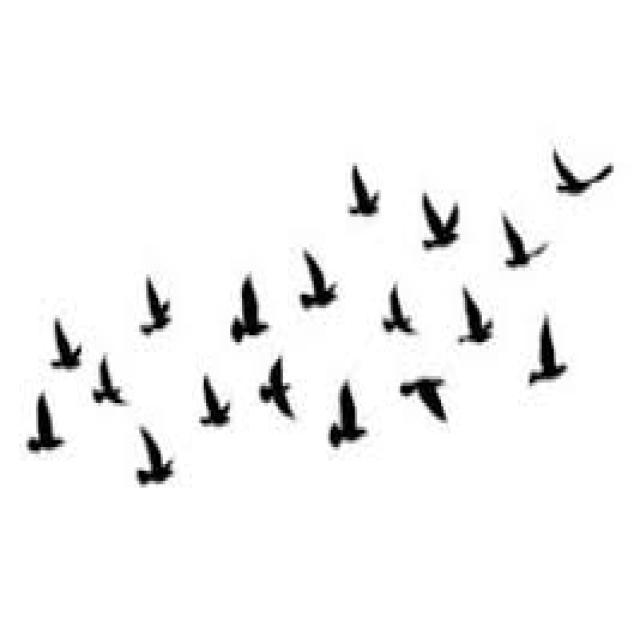bird: (526, 125, 629, 234), (7, 379, 91, 491), (280, 202, 350, 334), (318, 356, 388, 478), (332, 128, 399, 248), (27, 299, 104, 402), (220, 240, 286, 356), (516, 294, 594, 392), (125, 248, 192, 362), (483, 194, 562, 280), (181, 357, 246, 449), (127, 391, 180, 503), (390, 356, 460, 434), (410, 186, 472, 268), (252, 342, 304, 434), (449, 284, 512, 349), (90, 335, 133, 427), (368, 281, 423, 352)
